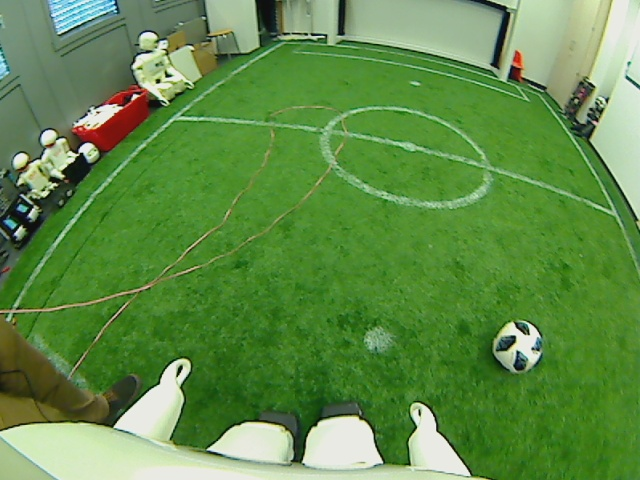ball: (489, 318, 545, 374)
